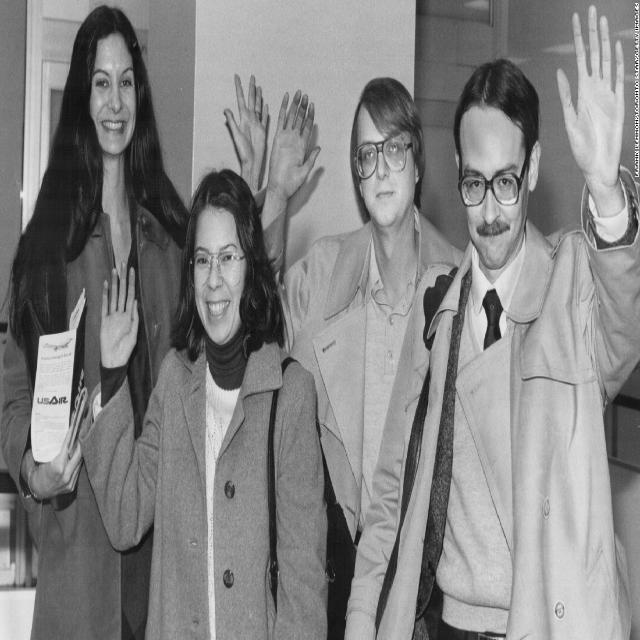body: (340, 0, 639, 639), (0, 3, 273, 639), (75, 161, 332, 639), (258, 71, 472, 558)
